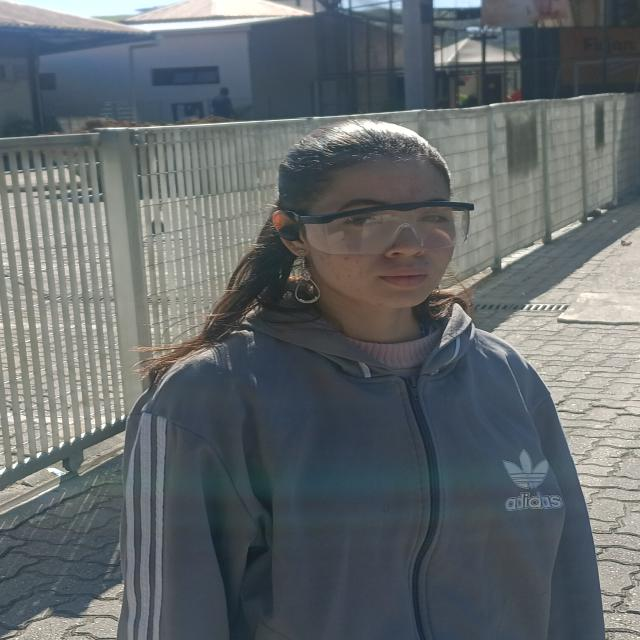oculos-epi: (286, 200, 474, 255)
